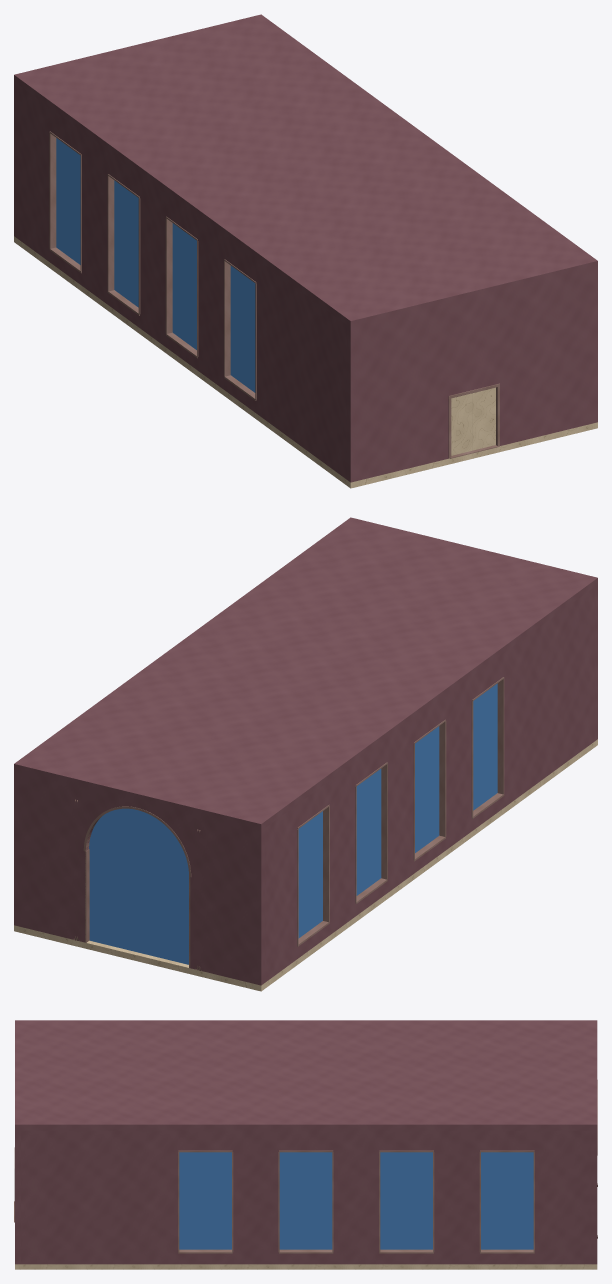
File: Xingtong_Castle_Hall_FullRoom.glb
3 views of the same model, one above another, from view 1: azimuth 30°, elevation 25°; view 2: azimuth 150°, elevation 25°; view 3: azimuth 270°, elevation 25° (orthographic). The views are drawn at different scales.
Parts seen in each view (by area): view 1: INF_Complete_ceiling_slab, ARCH_Side_wall_-1_with_apertures, INF_Rear_wall_with_doorway, ARCH_Floor_slab_complete, Side recessed night panel, Side recessed night panel.001, Side recessed night panel.002, Side recessed night panel.003, INF_Closed_door_leaf_1, INF_Closed_door_leaf_-1, Window_-1_5_jamb_return.001, Window_-1_11_jamb_return.001 (+3 smaller); view 2: INF_Complete_ceiling_slab, ARCH_Side_wall_-1_with_apertures, ARCH_Far_wall_arched_aperture, ARCH_Central_arched_glazing_40mm, ARCH_Floor_slab_complete, Side recessed night panel.002, Side recessed night panel, Side recessed night panel.001, Side recessed night panel.003, Window_-1_-1_jamb_return, Window_-1_5_jamb_return, Window_-1_11_jamb_return (+2 smaller); view 3: INF_Complete_ceiling_slab, ARCH_Side_wall_1_with_apertures, Side recessed night panel.005, Side recessed night panel.004, Side recessed night panel.006, Side recessed night panel.007, ARCH_Floor_slab_complete, ARCH_Far_wall_arched_aperture, INF_Rear_wall_with_doorway.
Part boxes in pixels (x1,y1,x2,y2): INF_Complete_ceiling_slab: [14, 14, 597, 327]; ARCH_Side_wall_-1_with_apertures: [17, 84, 347, 479]; INF_Rear_wall_with_doorway: [347, 267, 597, 482]; ARCH_Floor_slab_complete: [14, 236, 597, 488]; Side recessed night panel: [230, 266, 255, 392]; Side recessed night panel.001: [172, 223, 196, 349]; Side recessed night panel.002: [114, 180, 138, 307]; Side recessed night panel.003: [56, 138, 80, 264]; INF_Closed_door_leaf_1: [472, 387, 495, 450]; INF_Closed_door_leaf_-1: [451, 393, 472, 455]; Window_-1_5_jamb_return.001: [165, 218, 172, 333]; Window_-1_11_jamb_return.001: [107, 175, 114, 291]; INF_Complete_ceiling_slab: [14, 517, 597, 830]; ARCH_Side_wall_-1_with_apertures: [264, 587, 594, 982]; ARCH_Far_wall_arched_aperture: [14, 770, 264, 985]; ARCH_Central_arched_glazing_40mm: [89, 808, 188, 964]; ARCH_Floor_slab_complete: [14, 739, 597, 991]; Side recessed night panel.002: [356, 769, 381, 895]; Side recessed night panel: [473, 683, 497, 810]; Side recessed night panel.001: [415, 726, 439, 852]; Side recessed night panel.003: [298, 811, 322, 938]; Window_-1_-1_jamb_return: [497, 678, 504, 794]; Window_-1_5_jamb_return: [439, 721, 446, 836]; Window_-1_11_jamb_return: [381, 763, 387, 879]; INF_Complete_ceiling_slab: [15, 1020, 597, 1130]; ARCH_Side_wall_1_with_apertures: [21, 1130, 591, 1264]; Side recessed night panel.005: [279, 1152, 332, 1249]; Side recessed night panel.004: [179, 1152, 231, 1249]; Side recessed night panel.006: [380, 1152, 432, 1249]; Side recessed night panel.007: [481, 1152, 533, 1249]; ARCH_Floor_slab_complete: [15, 1264, 597, 1269]; ARCH_Far_wall_arched_aperture: [591, 1130, 597, 1264]; INF_Rear_wall_with_doorway: [15, 1130, 20, 1264].
Bounding box in the file's own units: 14.79 × 9.52 × 34.83.
Materials: 85 (6 with a texture image).
